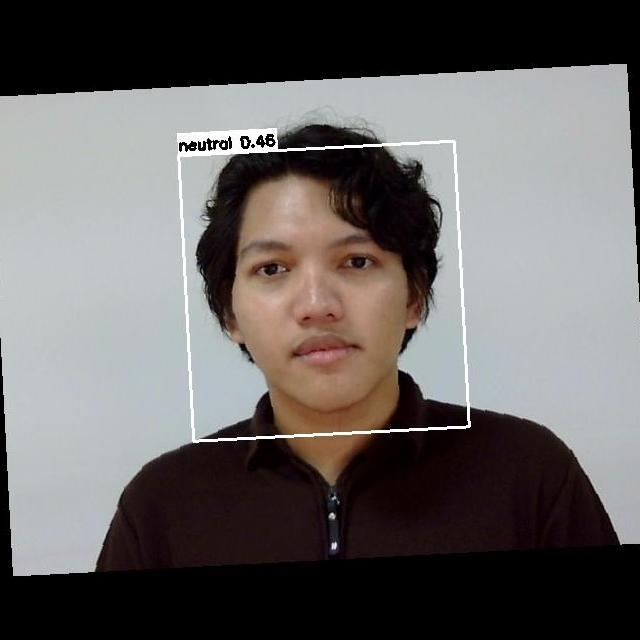Natural: (227, 226, 422, 393)
